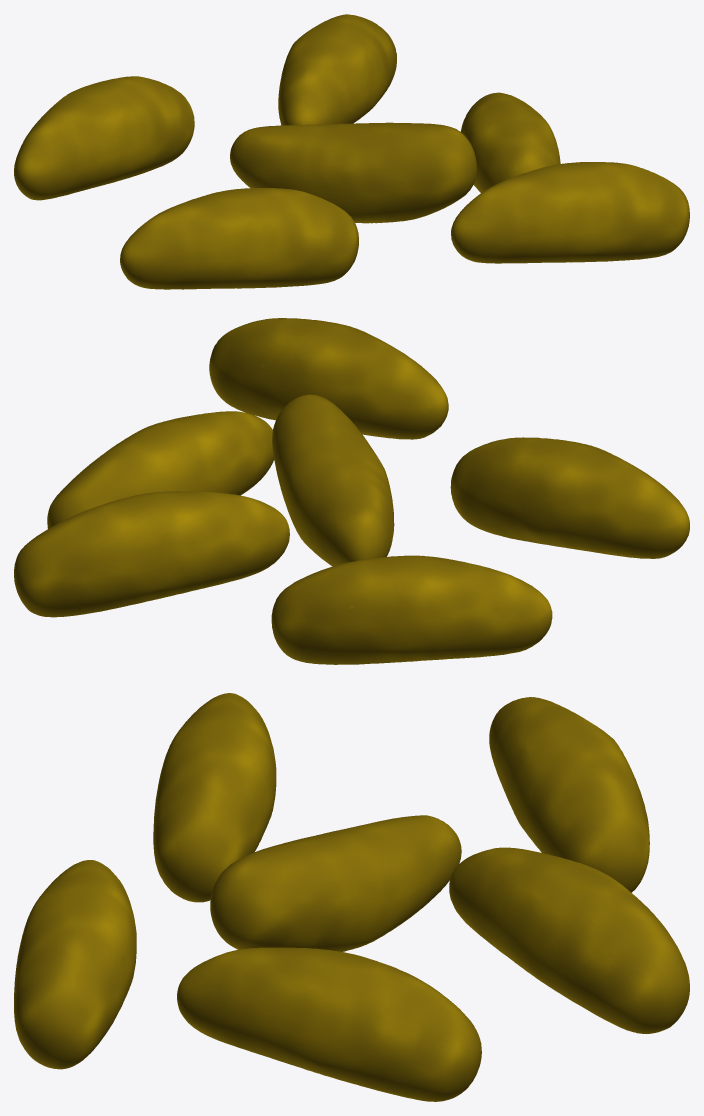
File: seed-transformed.glb
3 views of the same model, one above another, from view 1: azimuth 30°, elevation 25°; view 2: azimuth 150°, elevation 25°; view 3: azimuth 270°, elevation 25° (orthographic). The views are drawn at different scales.
Parts seen in each view (by area): view 1: Object_2; view 2: Object_2; view 3: Object_2.
Boxes of the visible parts, <box> form: Object_2: <box>14,14,689,289</box>; Object_2: <box>14,318,689,664</box>; Object_2: <box>14,693,689,1101</box>.
Bounding box in the file's own units: 15.16 × 3.73 × 14.39.
